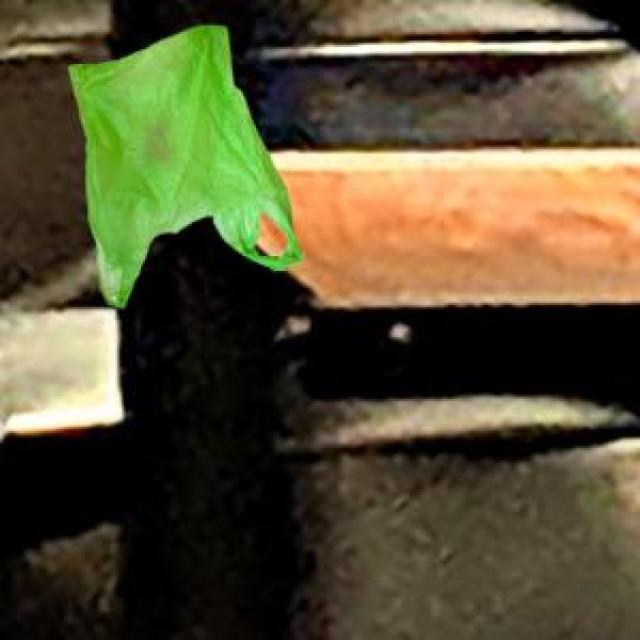waste: (69, 26, 302, 307)
